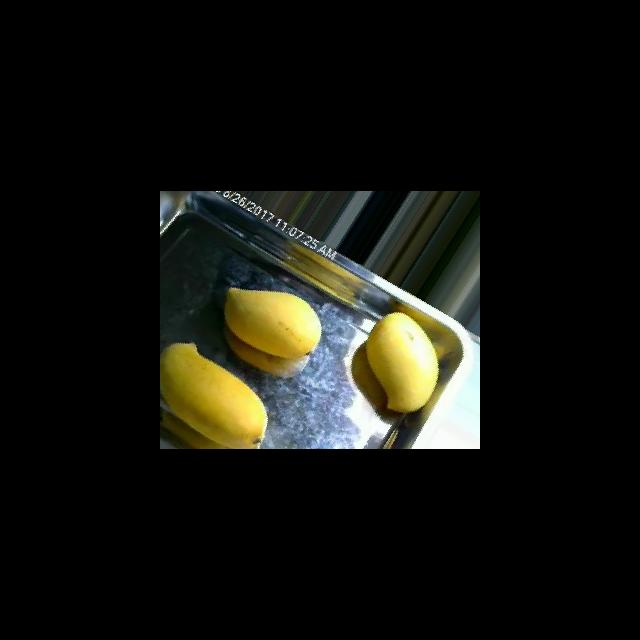mango: (160, 341, 270, 449), (365, 311, 439, 413), (223, 286, 321, 359)
